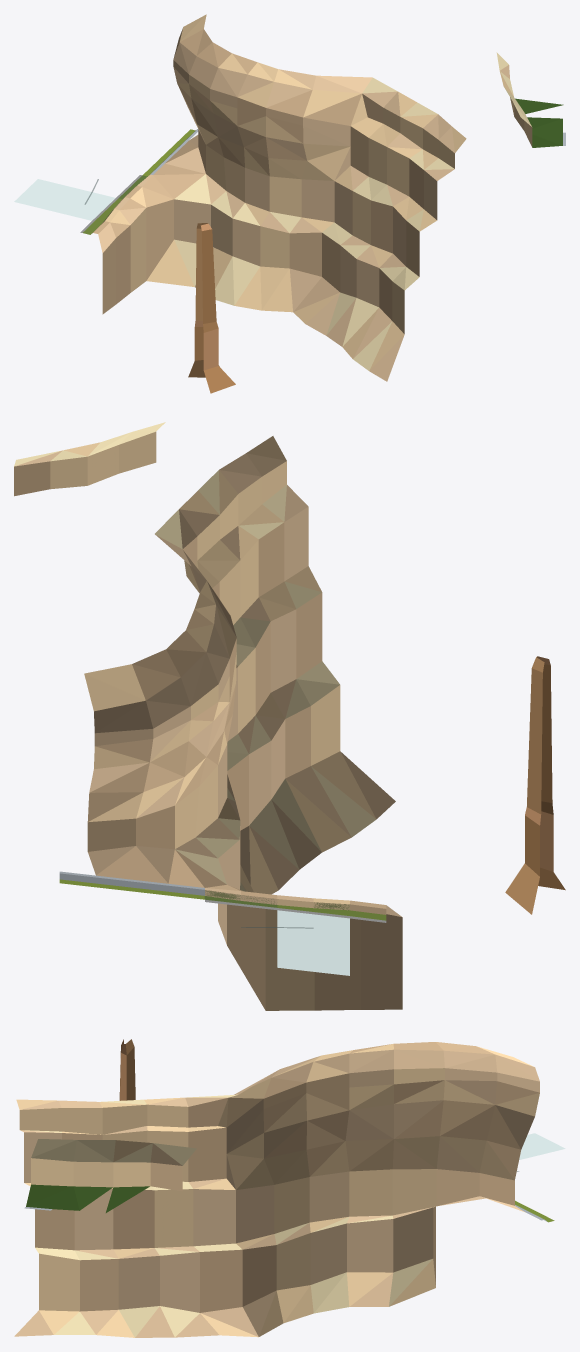
The picture shows the model from 3 angles, top to bottom: view 1: azimuth 30°, elevation 25°; view 2: azimuth 150°, elevation 25°; view 3: azimuth 270°, elevation 25°; orthographic projection. The views are drawn at different scales.
Visible parts, largest first — view 1: O1C8DF; view 2: O1C8DF; view 3: O1C8DF.
Part boxes in pixels (bbox=[...]): O1C8DF: bbox=[14, 14, 565, 393]; O1C8DF: bbox=[14, 422, 565, 1010]; O1C8DF: bbox=[14, 1039, 565, 1337].
Size of the model in its own units: 148 by 86 by 143.
